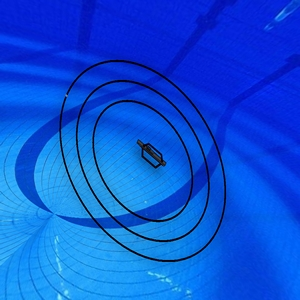circle: (56, 58, 233, 263)
submarine: (136, 137, 171, 171)
